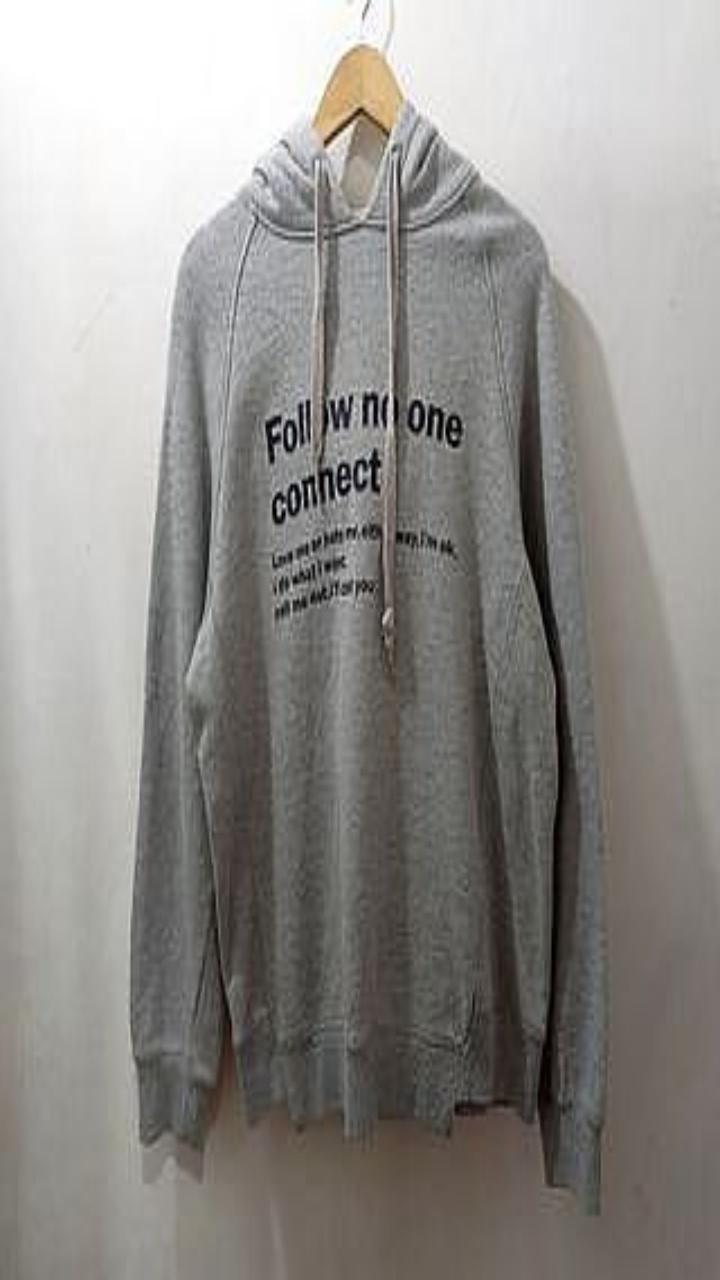Hoodie: (130, 99, 607, 1212)
